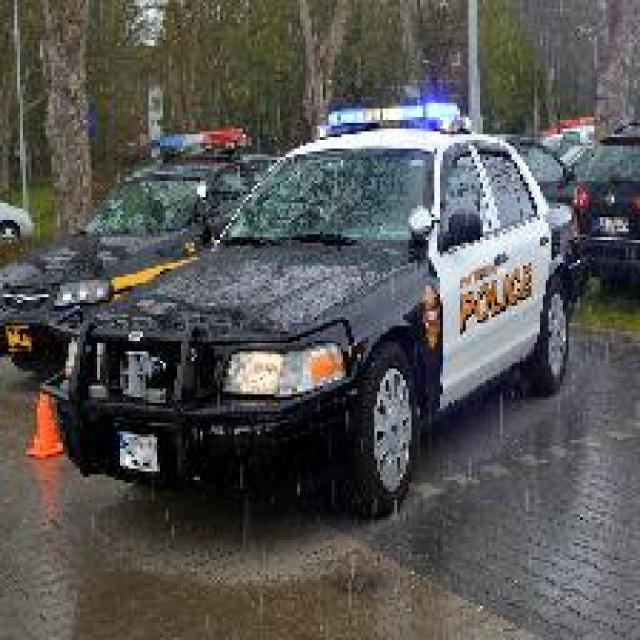Police-car: (40, 94, 586, 517), (0, 126, 280, 374)
